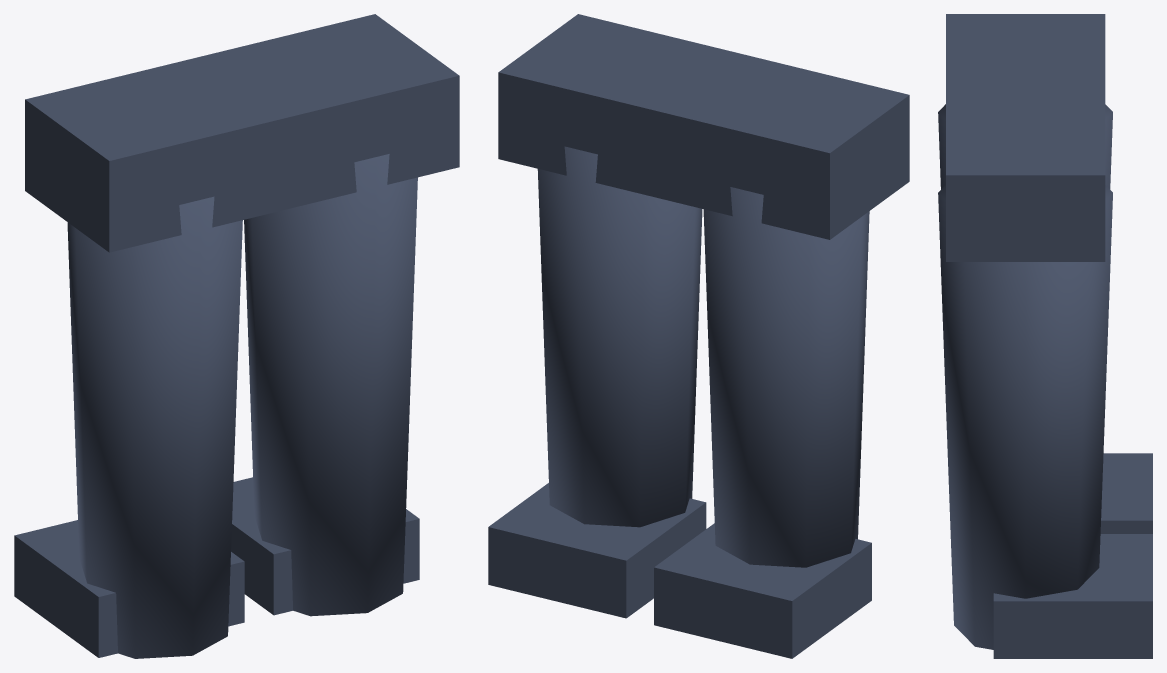
File: lead_greaves.glb
3 renders of one model, left to right at view 1: azimuth 30°, elevation 25°; view 2: azimuth 150°, elevation 25°; view 3: azimuth 270°, elevation 25°, orthographic. The views are drawn at different scales.
Parts seen in each view (by area): view 1: lead_greaves_v0; view 2: lead_greaves_v0; view 3: lead_greaves_v0.
Boxes of the visible parts, left/top/right/bottom form: lead_greaves_v0: left=14, top=14, right=459, bottom=658; lead_greaves_v0: left=488, top=14, right=909, bottom=658; lead_greaves_v0: left=938, top=14, right=1152, bottom=658.
Size of the model in its own units: 0.24 by 0.34 by 0.135.
